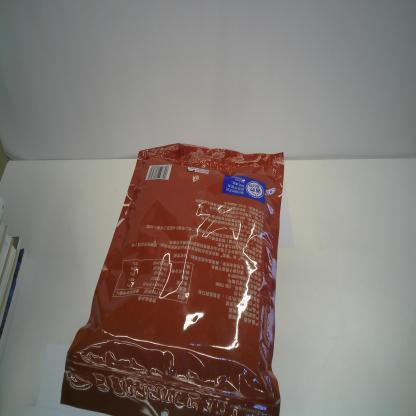Dried Food: (60, 143, 285, 416)
